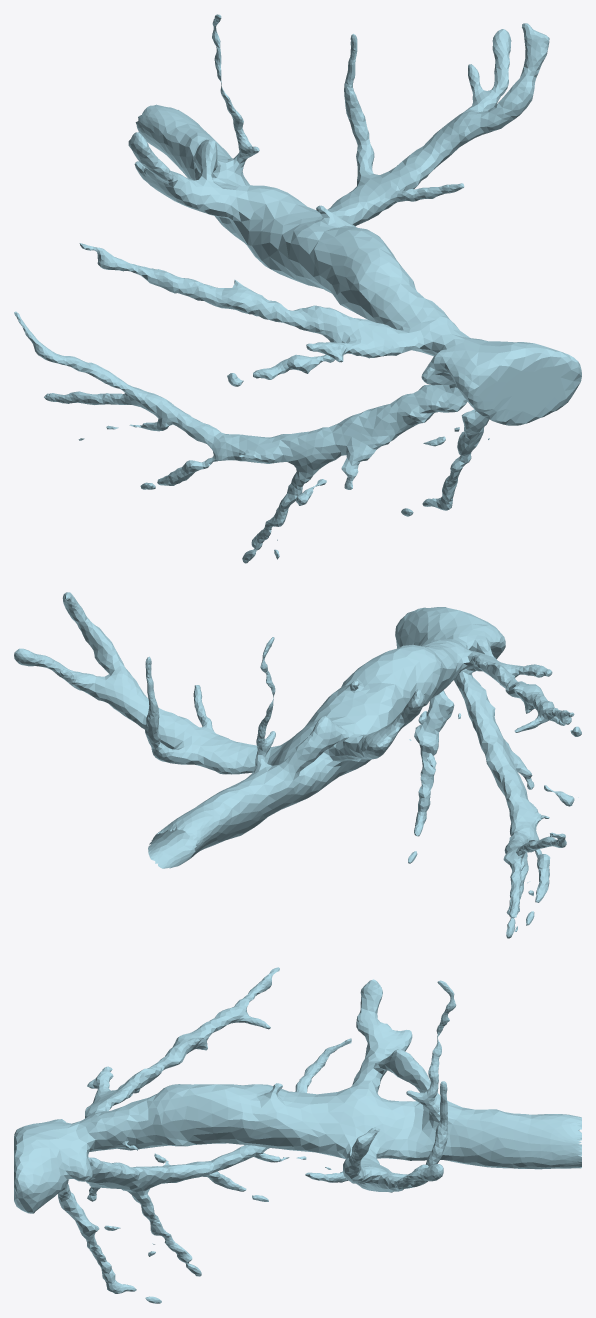
Rendered from venoussystem.obj.
3 views of the same model, one above another, from view 1: azimuth 30°, elevation 25°; view 2: azimuth 150°, elevation 25°; view 3: azimuth 270°, elevation 25° (orthographic). The views are drawn at different scales.
Visible parts, largest first — view 1: grp1; view 2: grp1; view 3: grp1.
Boxes of the visible parts, x1,y1,x2,y2 form: grp1: [14, 14, 581, 563]; grp1: [14, 592, 581, 938]; grp1: [14, 967, 581, 1303].
Size of the model in its own units: 193 by 139 by 207.
